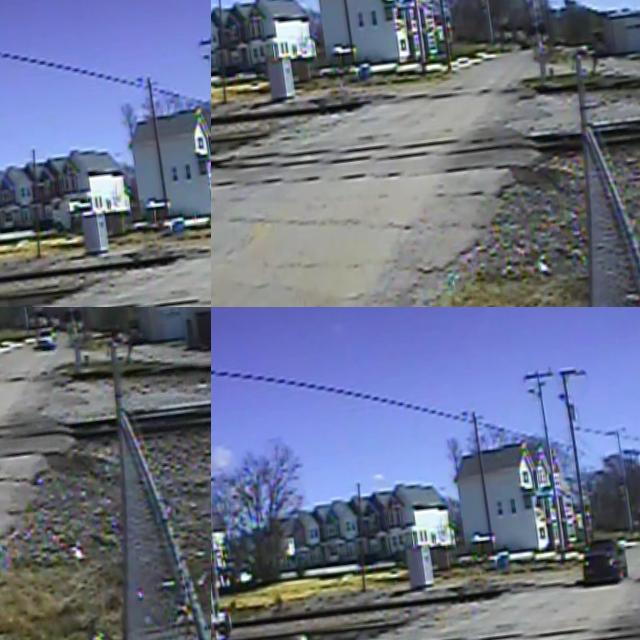barrier: (0, 3, 28, 210), (211, 348, 235, 532), (0, 307, 27, 415), (211, 0, 237, 97), (503, 0, 539, 46), (36, 307, 70, 348)
car: (569, 518, 636, 601)
rails: (211, 35, 640, 157), (211, 529, 640, 640), (211, 93, 640, 201), (0, 370, 211, 530), (211, 574, 640, 640), (0, 332, 211, 460), (0, 186, 211, 307), (0, 239, 211, 307)
traffic-signal: (211, 50, 241, 214), (0, 350, 29, 519), (211, 539, 250, 640), (514, 15, 560, 99), (0, 212, 29, 307), (56, 307, 90, 370)
